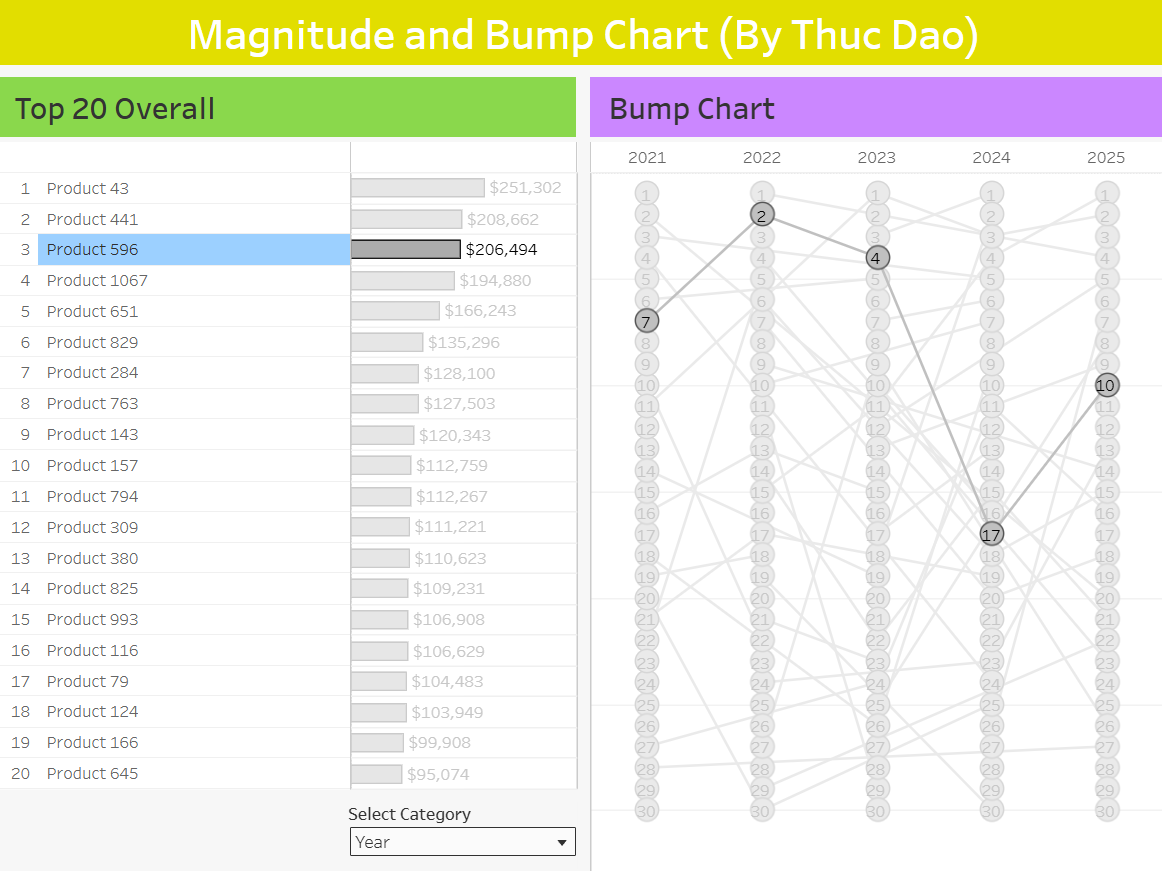

The dashboard page shown, as its layout file describes it:
{"tool":"tableau","page":{"name":"Magnitude and Bump Chart","canvas":[800,600],"ordinal":0},"visuals":[{"type":"title","box":[8,8,784,48]},{"type":"worksheet","title":"Top 20 Overall","mark":"Automatic","rows":["Product Name"],"cols":["Calculation_5621225095644766","Sales"],"box":[8,56,392,482.9]},{"type":"worksheet","title":"Bump Chart","mark":"Line","cols":["Calculation_3471225094359462"],"box":[400,56,392,536]},{"type":"legend","title":"Top 20 Overall","param":"[federated.03oba321ynmfqf19pgg1p1snoror].[attr:Product Category:nk]","box":[8,538.9,164,53]},{"type":"parameter","param":"[Parameters].[Parameter 1]","box":[172,538.9,228,53]}]}

Visuals, with their boxes in screenshot pixels (x1, y1, x2, y2), scaled from the page's 800x600 canvas onto the 1162x871 screenshot:
title: <bbox>12, 12, 1150, 81</bbox>
"Top 20 Overall" worksheet: <bbox>12, 81, 581, 782</bbox>
"Bump Chart" worksheet (Line marks): <bbox>581, 81, 1150, 859</bbox>
"Top 20 Overall" legend: <bbox>12, 782, 250, 859</bbox>
parameter: <bbox>250, 782, 581, 859</bbox>
